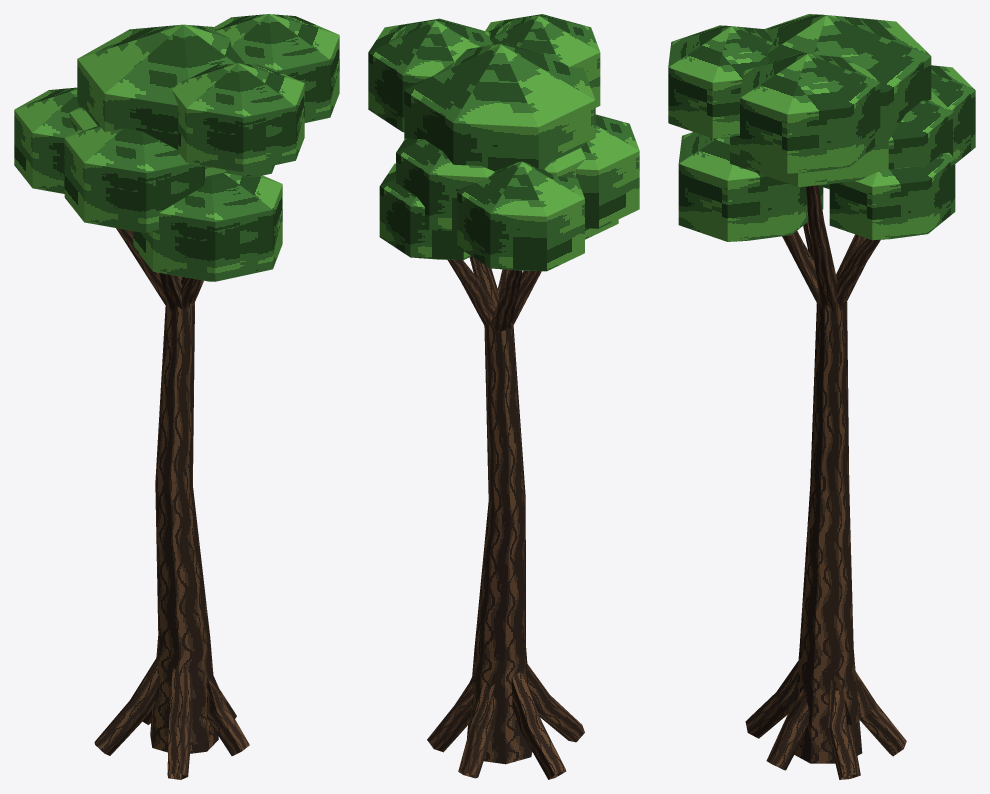
Rendered from arbolmayorIsla4.gltf.
3 renders of one model, left to right at view 1: azimuth 30°, elevation 25°; view 2: azimuth 150°, elevation 25°; view 3: azimuth 270°, elevation 25°, orthographic. The views are drawn at different scales.
Visible parts, largest first — view 1: FLO-16_Arbol_mayor.281; view 2: FLO-16_Arbol_mayor.281; view 3: FLO-16_Arbol_mayor.281.
Part boxes in pixels (box(x1,y1,x2,y2)): FLO-16_Arbol_mayor.281: box(14, 14, 339, 779); FLO-16_Arbol_mayor.281: box(368, 14, 639, 779); FLO-16_Arbol_mayor.281: box(668, 14, 975, 779).
Size of the model in its own units: 7.84 by 21.04 by 7.91.
1 material, 1 textured.
